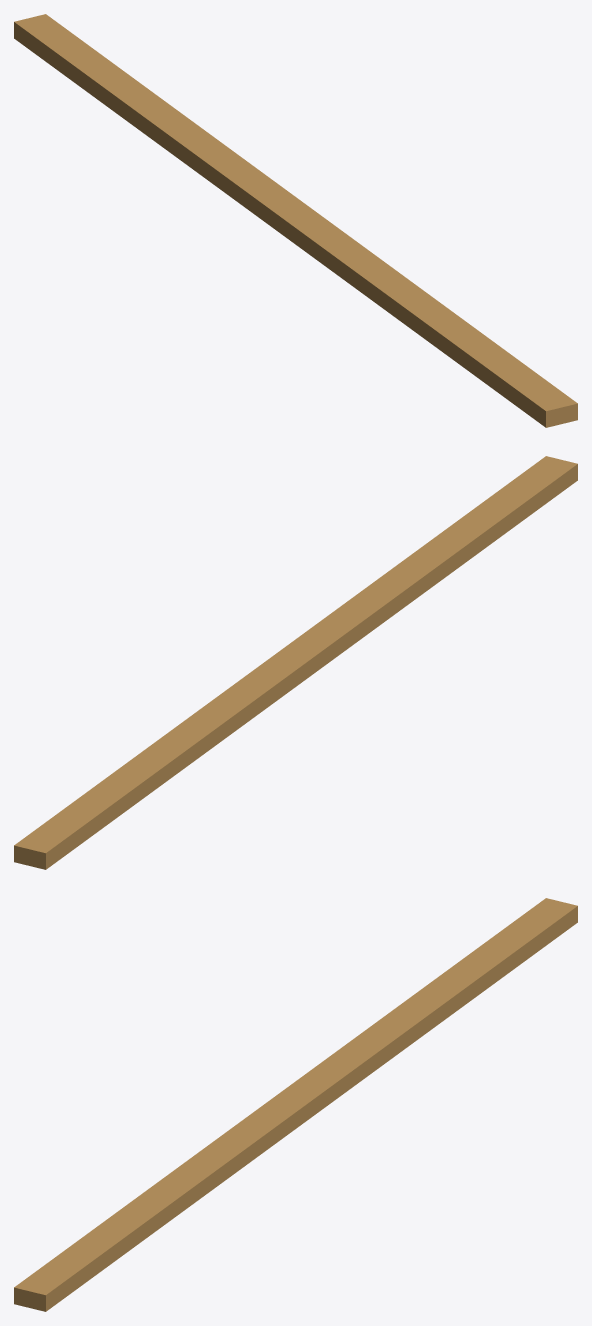
3 renders of one model, top to bottom at view 1: azimuth 30°, elevation 25°; view 2: azimuth 150°, elevation 25°; view 3: azimuth 330°, elevation 25°, orthographic.
Visible parts, largest first — view 1: __delivery_mesh_5340; view 2: __delivery_mesh_5340; view 3: __delivery_mesh_5340.
Part boxes in pixels (<box>): __delivery_mesh_5340: <box>14,14,577,427</box>; __delivery_mesh_5340: <box>14,456,577,869</box>; __delivery_mesh_5340: <box>14,898,577,1311</box>.
Size of the model in its own units: 0.09 by 0.045 by 2.6.
